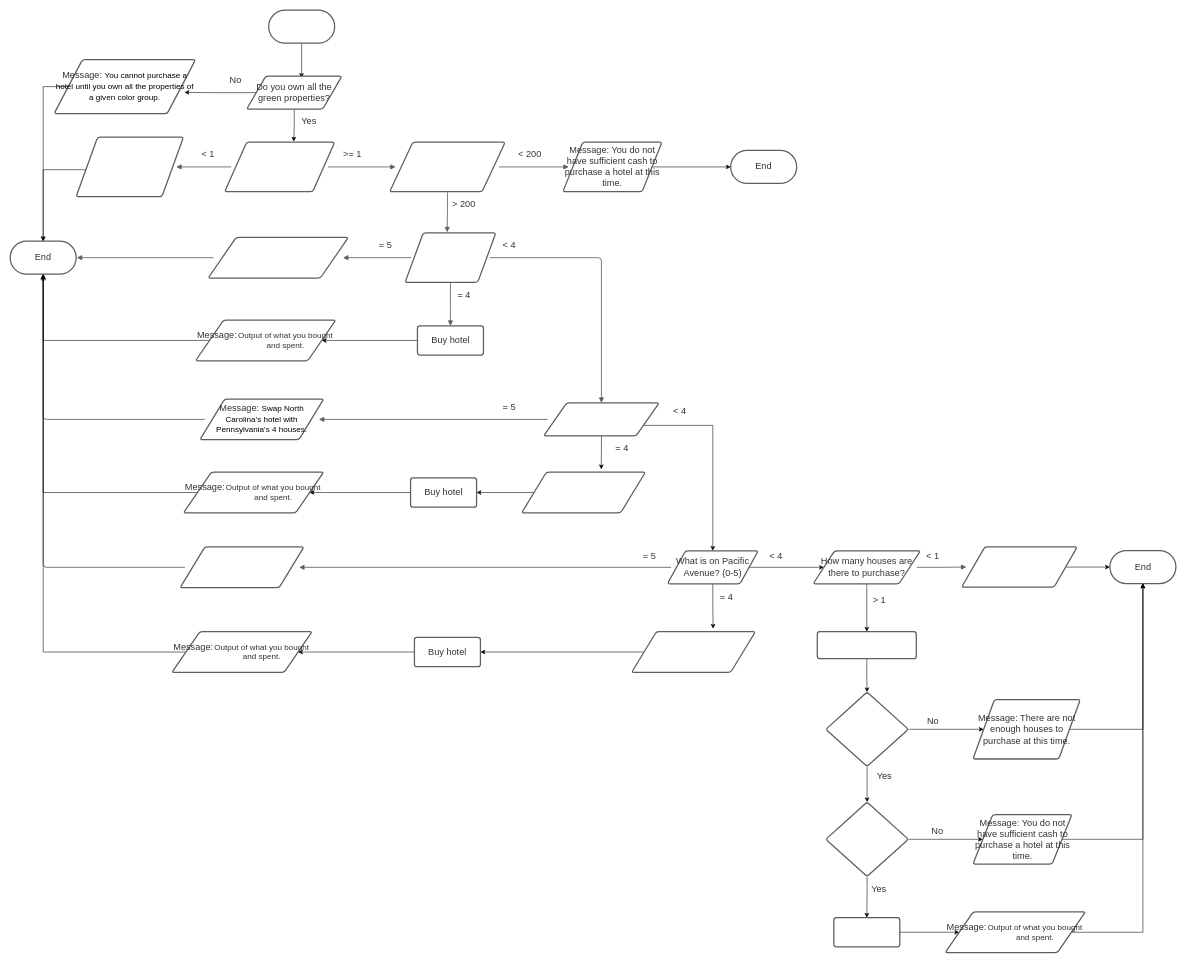
Some shapes in this 1186 by 963 pixel diagram are drawn without their labels. The shapes that lost their labels are listed below. From the top down, each one's centre as x and y in pixels, then its label:
At point 301,26: "Start".
At point 129,166: "Message: There are not enough hotels to purchase at this time.".
At point 279,166: "How many hotels are there to purchase?".
At point 447,166: "How much cash do you have to spend?".
At point 278,257: "Message: You cannot purchase a hotel if the property already has one.".
At point 450,257: "What is on Pennsylvania Avenue? (0-5)".
At point 601,419: "What is on North Carolina Avenue? (0-5)".
At point 583,492: "Message: Swap North Carolina's 4 houses with Pennsylvania's houses.".
At point 241,567: "Message: Swap Pacific Avenue's hotel with Pennsylvania's 4 houses.".
At point 1019,567: "Message: There are not enough houses available for purchase at this time.".
At point 693,652: "Message: Swap Pacific Avenue's 4 houses with Pennsylvania's houses.".
At point 866,645: "Calculate how many houses are needed".
At point 867,729: "Enough houses?".
At point 867,839: "Enough money for needed houses/hotel?".
At point 866,932: "Buy houses and hotel".
